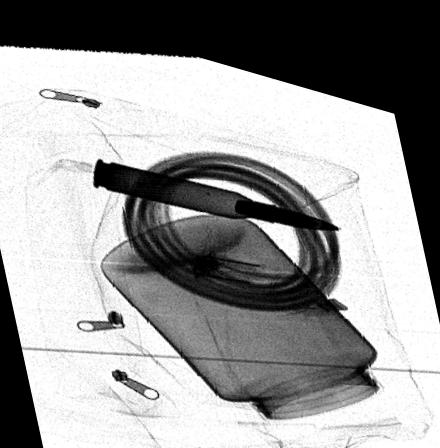Bullet: (91, 151, 344, 214)
